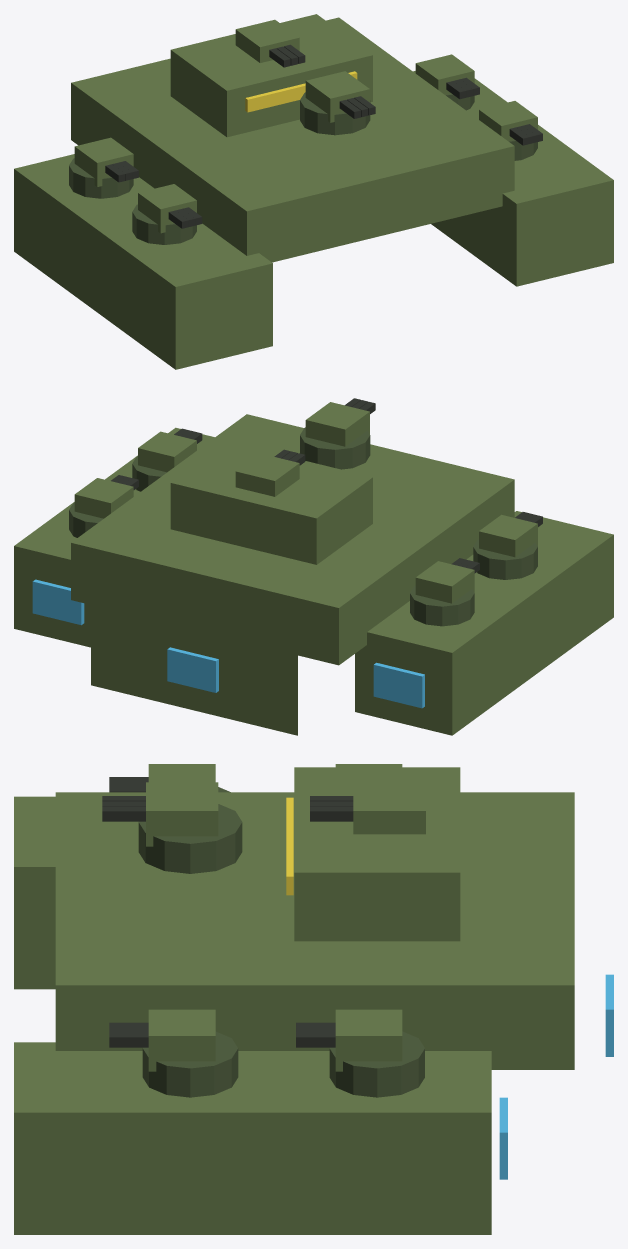
The model's file is medium_stern.obj.
The picture shows the model from 3 angles, top to bottom: view 1: azimuth 30°, elevation 25°; view 2: azimuth 150°, elevation 25°; view 3: azimuth 270°, elevation 25°; orthographic projection. The views are drawn at different scales.
Bounding box in the file's own units: 3.6 × 1.49 × 2.89.
5 materials, 5 textured.
